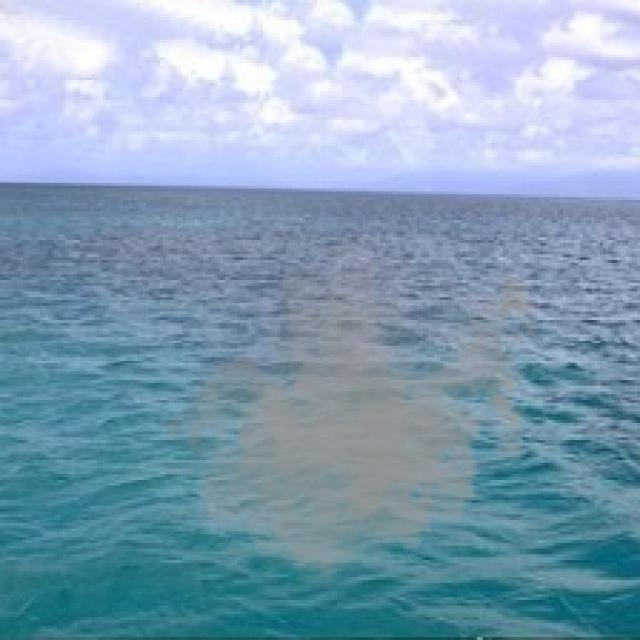Smoke: (160, 208, 549, 603)
